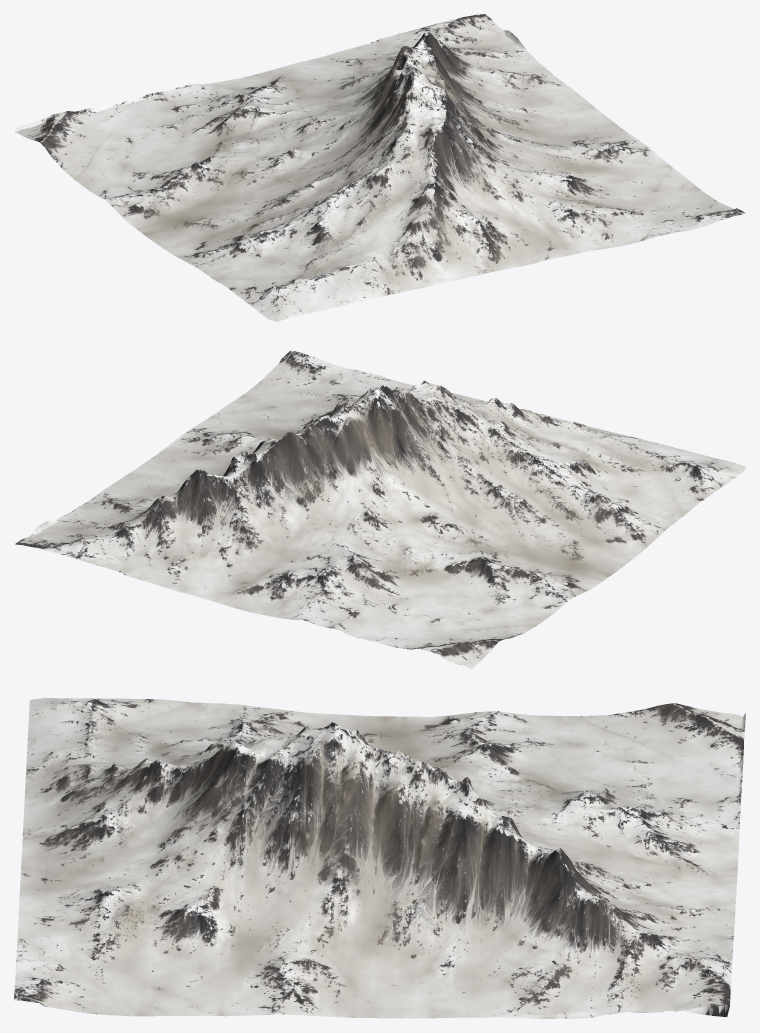
Rendered from wmsnow.glb.
3 renders of one model, top to bottom at view 1: azimuth 30°, elevation 25°; view 2: azimuth 150°, elevation 25°; view 3: azimuth 270°, elevation 25°, orthographic. The views are drawn at different scales.
Visible parts, largest first — view 1: P_wmsnow__c002, P_wmsnow__c008, P_wmsnow__c003, P_wmsnow__c000, P_wmsnow__c004, P_wmsnow__c005, P_wmsnow__c001, P_wmsnow__c006, P_wmsnow__c009, P_wmsnow__c010, P_wmsnow__c014, P_wmsnow__c007 (+4 smaller); view 2: P_wmsnow__c003, P_wmsnow__c012, P_wmsnow__c013, P_wmsnow__c006, P_wmsnow__c001, P_wmsnow__c007, P_wmsnow__c004, P_wmsnow__c000, P_wmsnow__c015, P_wmsnow__c005, P_wmsnow__c010, P_wmsnow__c011 (+3 smaller); view 3: P_wmsnow__c009, P_wmsnow__c014, P_wmsnow__c012, P_wmsnow__c011, P_wmsnow__c015, P_wmsnow__c008, P_wmsnow__c010, P_wmsnow__c005, P_wmsnow__c007, P_wmsnow__c002, P_wmsnow__c013, P_wmsnow__c004 (+4 smaller).
Boxes of the visible parts, box(x1,y1,x2,y2) form: P_wmsnow__c002: box(326, 159, 508, 294); P_wmsnow__c008: box(445, 166, 627, 268); P_wmsnow__c003: box(262, 91, 444, 220); P_wmsnow__c000: box(209, 220, 390, 321); P_wmsnow__c004: box(79, 148, 260, 234); P_wmsnow__c005: box(14, 100, 196, 182); P_wmsnow__c001: box(144, 191, 326, 275); P_wmsnow__c006: box(197, 106, 379, 190); P_wmsnow__c009: box(383, 69, 562, 179); P_wmsnow__c010: box(563, 174, 745, 244); P_wmsnow__c014: box(433, 40, 615, 132); P_wmsnow__c007: box(132, 75, 314, 147); P_wmsnow__c003: box(381, 385, 564, 530); P_wmsnow__c012: box(204, 406, 380, 541); P_wmsnow__c013: box(128, 469, 310, 609); P_wmsnow__c006: box(312, 447, 495, 585); P_wmsnow__c001: box(496, 462, 679, 575); P_wmsnow__c007: box(242, 542, 425, 637); P_wmsnow__c004: box(426, 531, 609, 622); P_wmsnow__c000: box(566, 436, 745, 518); P_wmsnow__c015: box(15, 472, 194, 575); P_wmsnow__c005: box(358, 586, 540, 669); P_wmsnow__c010: box(222, 350, 405, 421); P_wmsnow__c011: box(152, 409, 330, 467); P_wmsnow__c009: box(197, 722, 378, 914); P_wmsnow__c014: box(372, 862, 554, 1018); P_wmsnow__c012: box(376, 749, 558, 908); P_wmsnow__c011: box(193, 907, 375, 1017); P_wmsnow__c015: box(551, 856, 733, 1018); P_wmsnow__c008: box(18, 782, 200, 929); P_wmsnow__c010: box(14, 907, 196, 1016); P_wmsnow__c005: box(563, 703, 745, 788); P_wmsnow__c007: box(559, 781, 741, 865); P_wmsnow__c002: box(22, 742, 204, 849); P_wmsnow__c013: box(555, 838, 737, 935); P_wmsnow__c004: box(385, 711, 566, 781).
Size of the model in its own units: 7952 by 1858 by 7956.
Materials: 4 (4 with a texture image).
